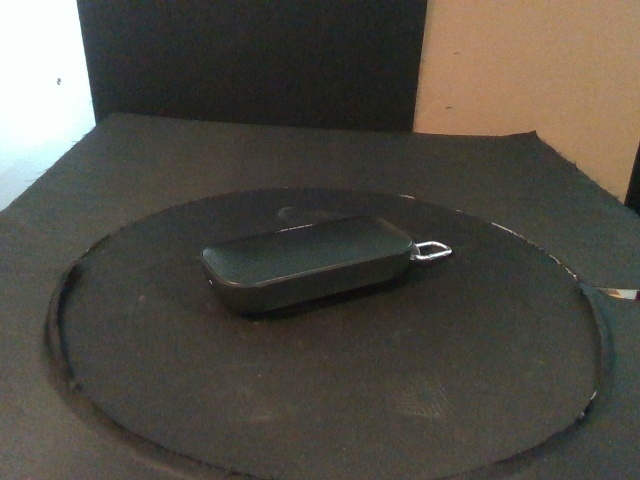speaker: (201, 215, 419, 312)
